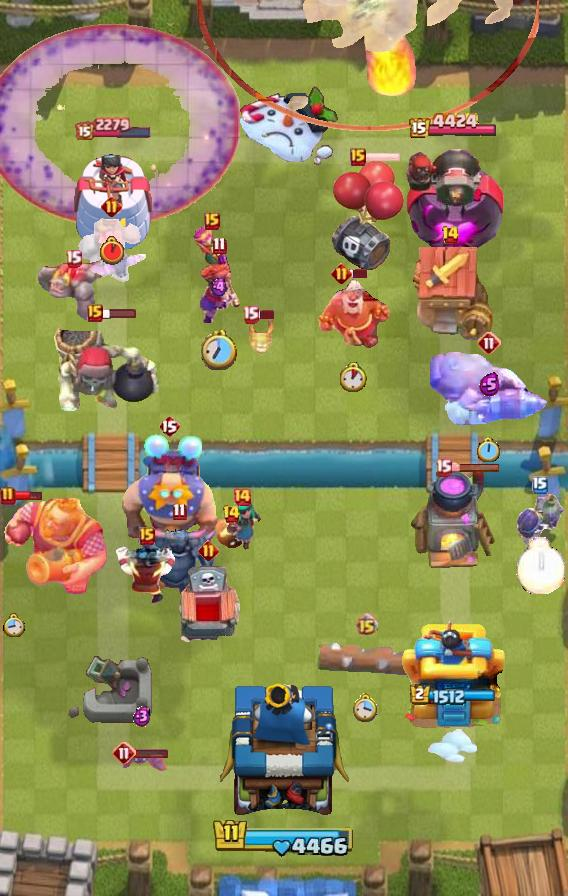barbarian: (88, 251, 148, 281)
barbarian-barrel: (116, 750, 168, 774)
bomber: (216, 519, 246, 551)
cannon: (192, 225, 232, 277)
clock: (212, 817, 356, 859)
electro-giant: (51, 317, 163, 427)
electro-spirit: (479, 371, 501, 396), (210, 277, 230, 297), (133, 705, 151, 727)
elixir: (515, 537, 564, 594), (201, 330, 237, 370), (340, 362, 367, 392), (353, 692, 379, 722), (100, 236, 124, 265), (477, 436, 501, 463), (3, 613, 25, 637)
elixir-collector: (314, 276, 392, 350)
elixir-golem-mid: (173, 565, 243, 651)
emote: (449, 462, 501, 473), (7, 489, 43, 502), (363, 151, 400, 163), (101, 307, 137, 319), (133, 747, 169, 759), (349, 269, 369, 280), (256, 308, 276, 319)
giant-skeleton: (1, 495, 112, 597)
goblin-ball: (513, 488, 567, 550)
golemite: (137, 525, 221, 597)
hunter: (409, 464, 499, 572)
ice-spirit-evolution: (247, 317, 277, 355)
king-tower: (219, 678, 349, 826)
little-prince: (116, 433, 222, 555)
lumberjack: (112, 545, 182, 605)
minion: (316, 639, 416, 677)
queen-tower: (399, 617, 507, 731), (71, 144, 157, 255)
rocket: (0, 23, 240, 227)
royal-ghost: (197, 1, 539, 132)
royal-recruit-evolution: (328, 160, 406, 274)
selected: (408, 112, 498, 140), (411, 684, 498, 706), (75, 116, 153, 140)
sparky: (407, 246, 493, 344)
tesla-evolution: (197, 250, 241, 326)
text: (477, 331, 501, 355), (112, 741, 136, 765), (354, 613, 377, 636), (158, 414, 180, 438), (101, 196, 122, 217), (332, 264, 353, 285), (197, 539, 218, 560), (232, 487, 252, 507), (440, 225, 459, 245), (223, 504, 242, 524), (241, 304, 259, 323), (435, 458, 453, 477), (66, 248, 83, 267), (0, 486, 16, 506), (350, 148, 366, 166), (204, 212, 220, 230), (87, 304, 103, 322), (532, 476, 548, 494), (139, 527, 155, 545), (172, 503, 187, 522), (213, 237, 227, 256)
tower-bar: (401, 138, 505, 256)
valkyrie: (364, 15, 422, 101)
valkyrie-evolution: (38, 257, 108, 323), (78, 219, 144, 285)
witch: (220, 498, 264, 552)
wizard: (426, 347, 552, 425)
